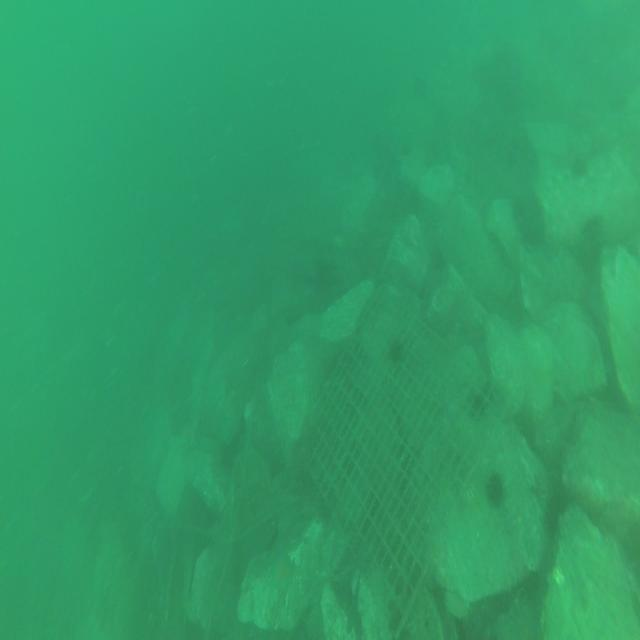echinus: (466, 380, 492, 421), (486, 468, 506, 507), (391, 335, 404, 363)
